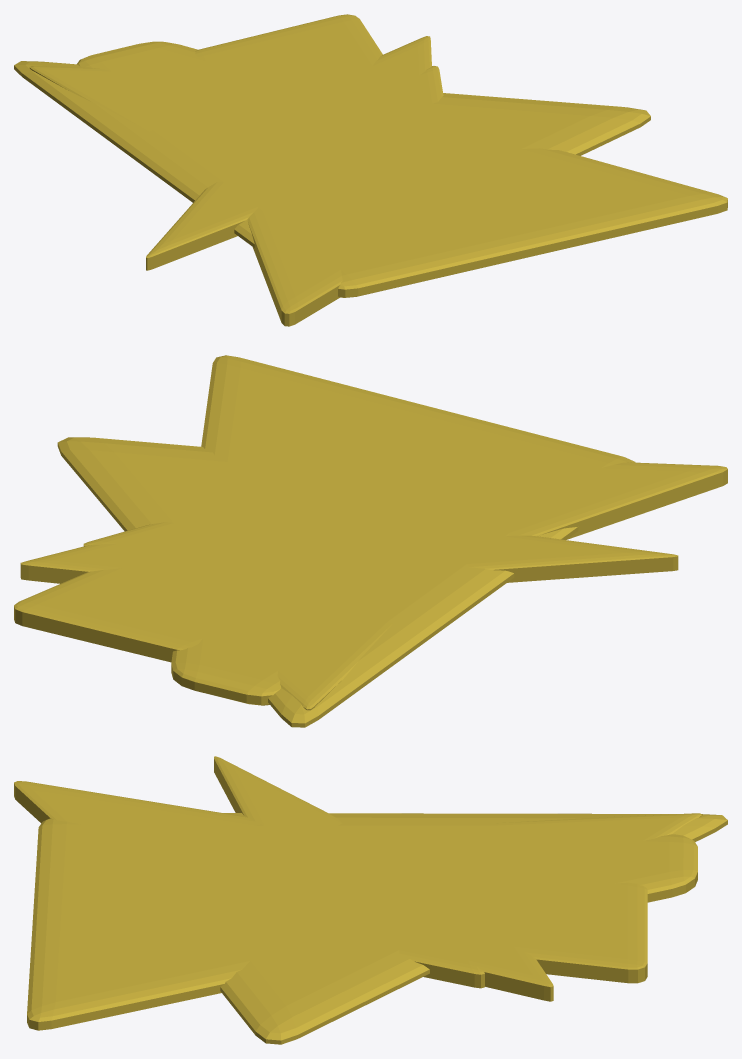
Rendered from Farms.fbx.
3 views of the same model, one above another, from view 1: azimuth 30°, elevation 25°; view 2: azimuth 150°, elevation 25°; view 3: azimuth 270°, elevation 25° (orthographic). The views are drawn at different scales.
Visible parts, largest first — view 1: Field 1, Field 7, Field 3, Field 6, Field 2, Field 5, Field 4; view 2: Field 7, Field 6, Field 1, Field 3, Field 2, Field 5, Field 4; view 3: Field 7, Field 6, Field 1, Field 3, Field 2, Field 4, Field 5.
Part boxes in pixels (box(x1,y1,x2,y2)): Field 1: box(29, 66, 503, 240); Field 7: box(77, 41, 727, 297); Field 3: box(195, 14, 457, 326); Field 6: box(14, 61, 650, 247); Field 2: box(146, 66, 443, 270); Field 5: box(210, 47, 442, 242); Field 4: box(186, 36, 431, 209); Field 7: box(171, 355, 635, 705); Field 6: box(57, 437, 578, 727); Field 1: box(136, 458, 533, 710); Field 3: box(14, 461, 727, 662); Field 2: box(83, 502, 678, 582); Field 5: box(126, 454, 526, 634); Field 4: box(20, 530, 206, 583); Field 7: box(27, 818, 697, 1030); Field 6: box(144, 813, 727, 1044); Field 1: box(143, 813, 702, 950); Field 3: box(14, 781, 647, 983); Field 2: box(214, 756, 484, 988); Field 4: box(245, 828, 553, 1001); Field 5: box(128, 848, 601, 923).
Bounding box in the file's own units: 1150 × 32.27 × 1241.
